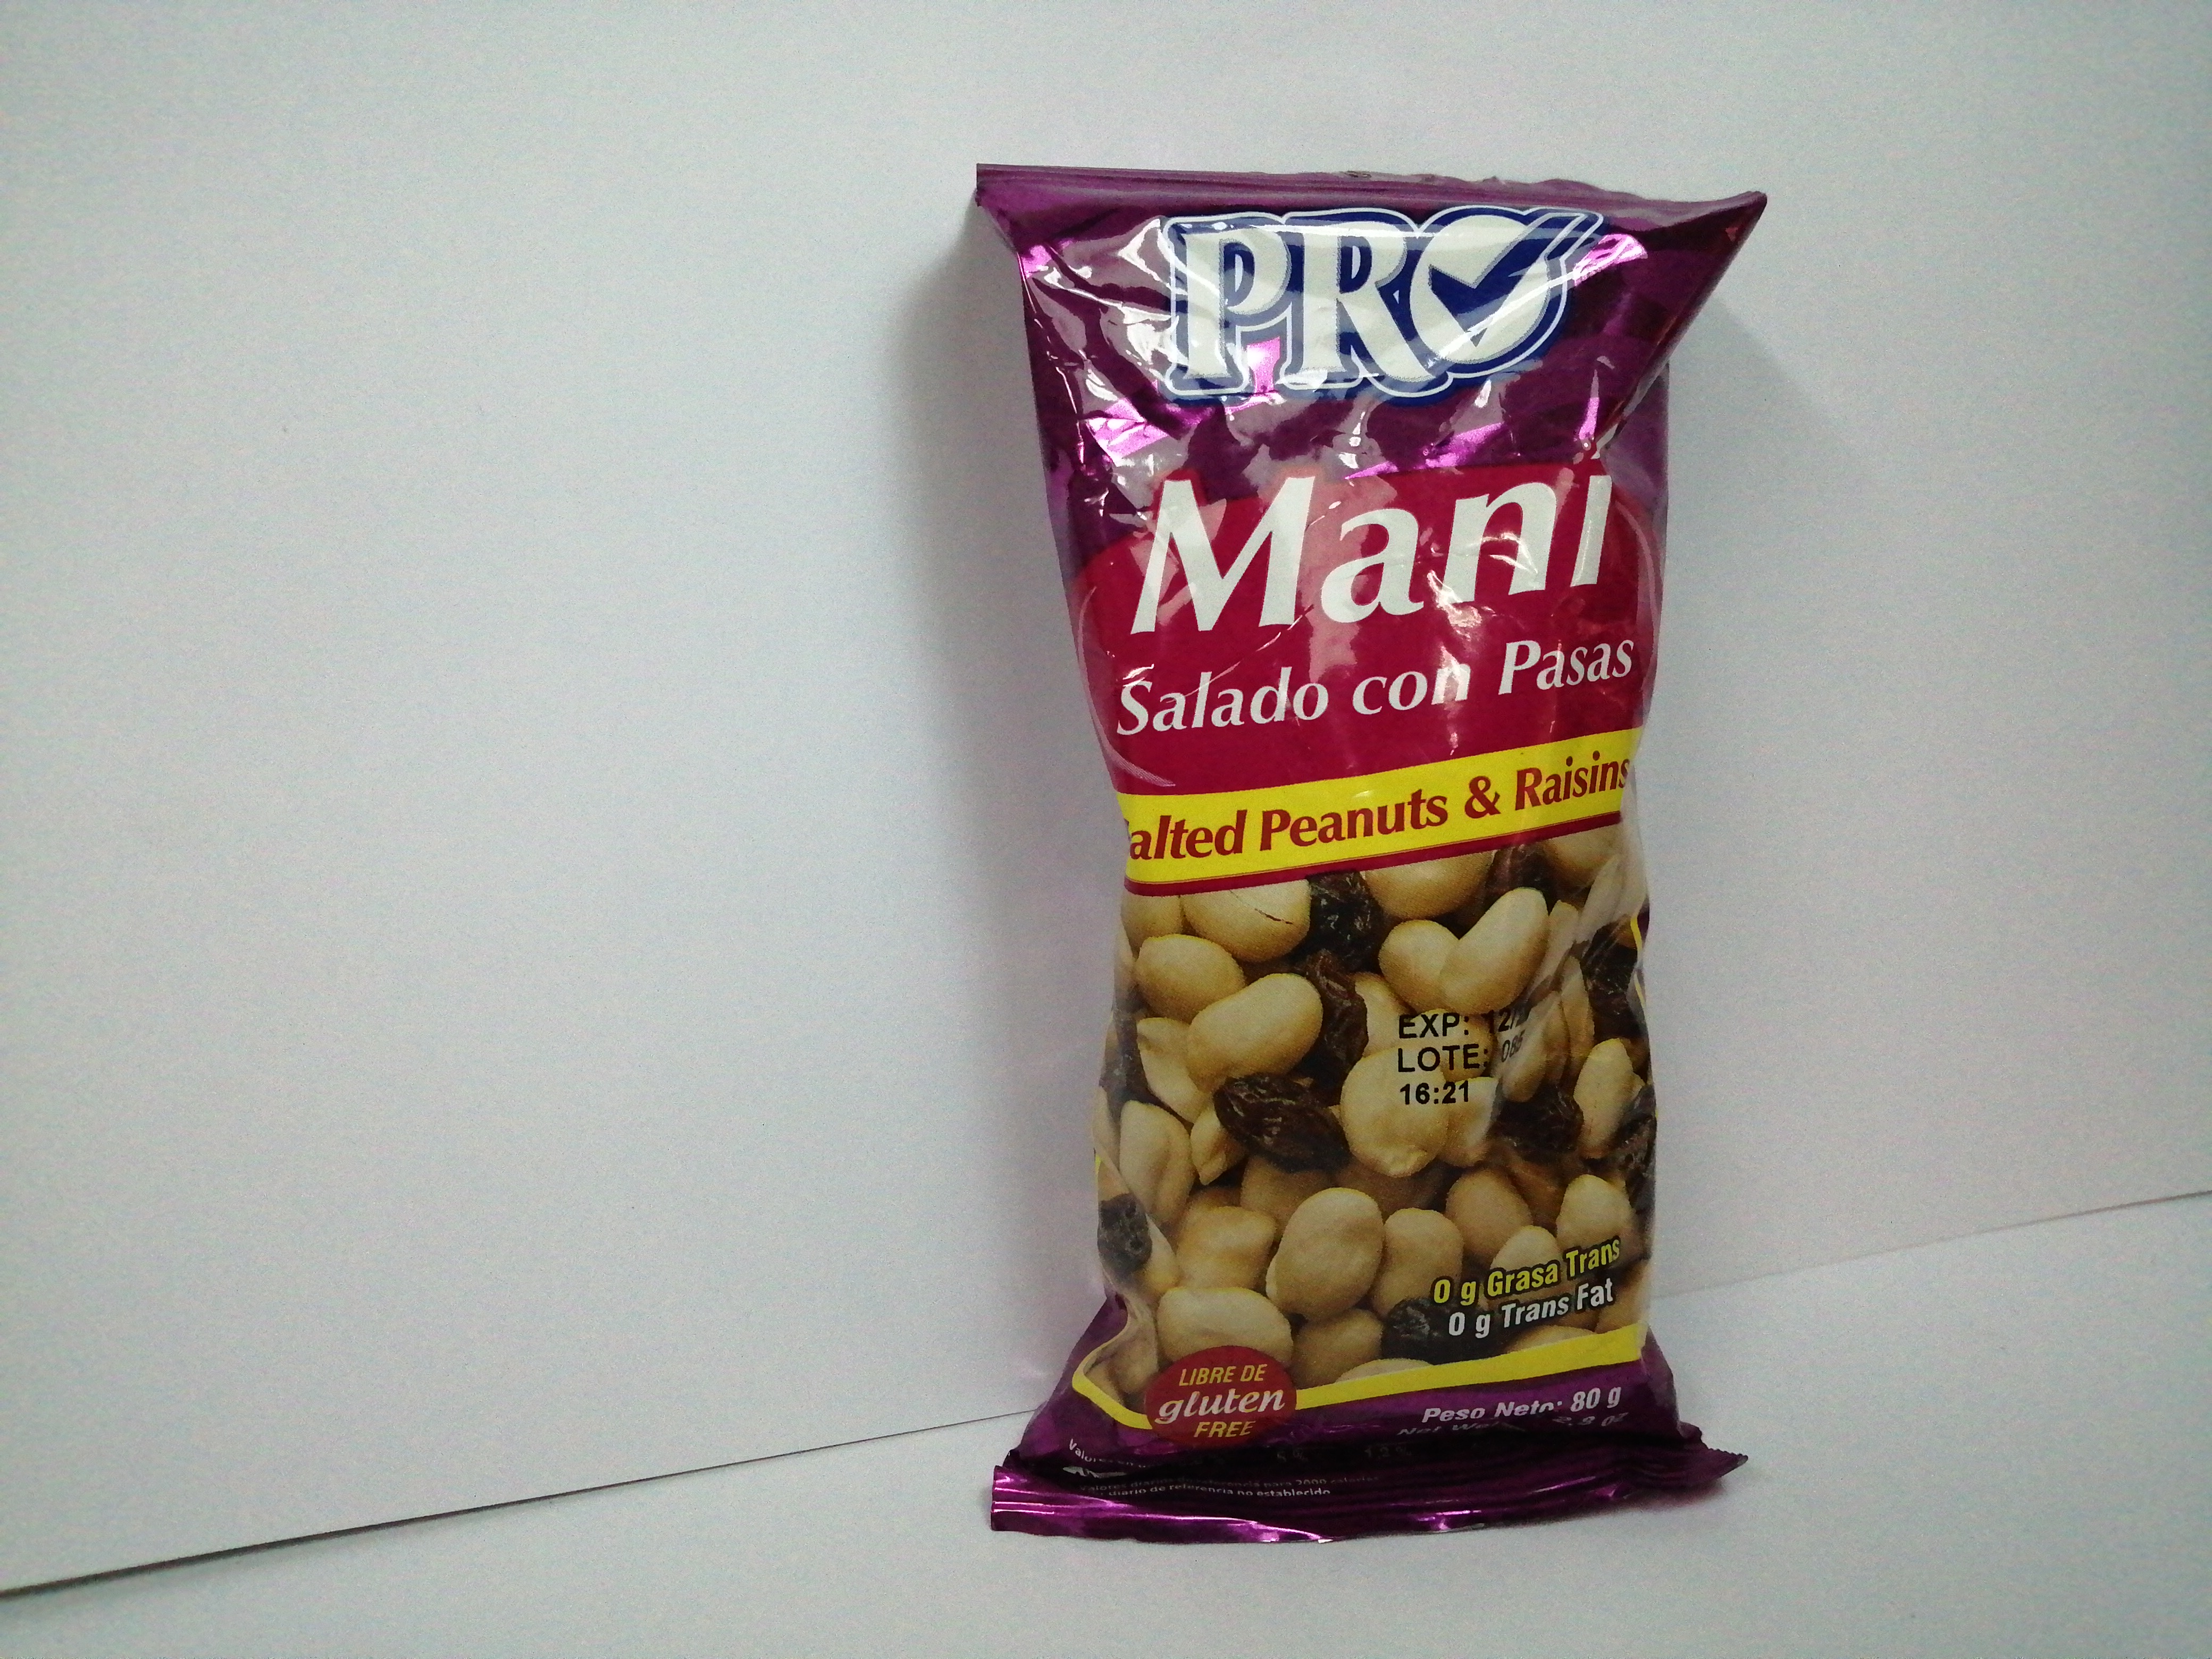mani: (970, 160, 1761, 1549)
